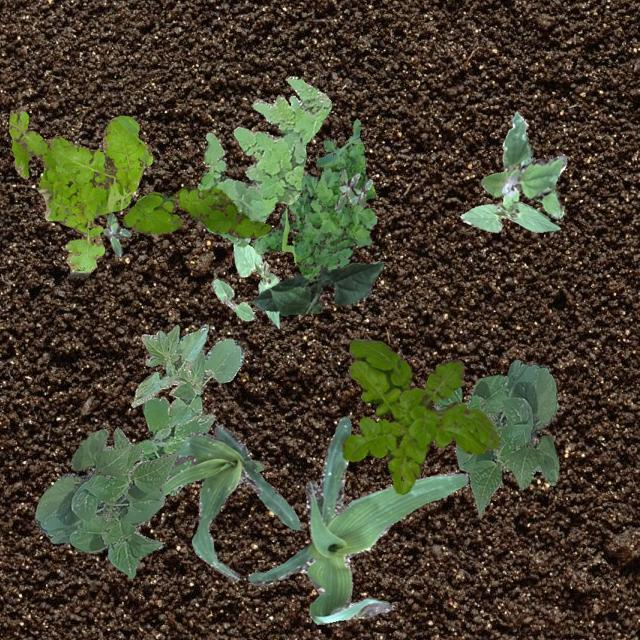crop: (248, 416, 467, 624), (160, 422, 300, 580), (34, 426, 178, 576), (432, 358, 558, 514), (130, 324, 242, 426), (250, 260, 382, 314), (233, 242, 279, 328), (459, 200, 558, 232), (210, 278, 253, 320)
weed: (342, 338, 499, 493), (8, 110, 150, 276), (197, 76, 331, 246), (252, 118, 376, 278), (134, 396, 264, 494), (480, 112, 566, 218), (122, 185, 270, 238), (334, 168, 372, 210), (102, 212, 130, 254)
